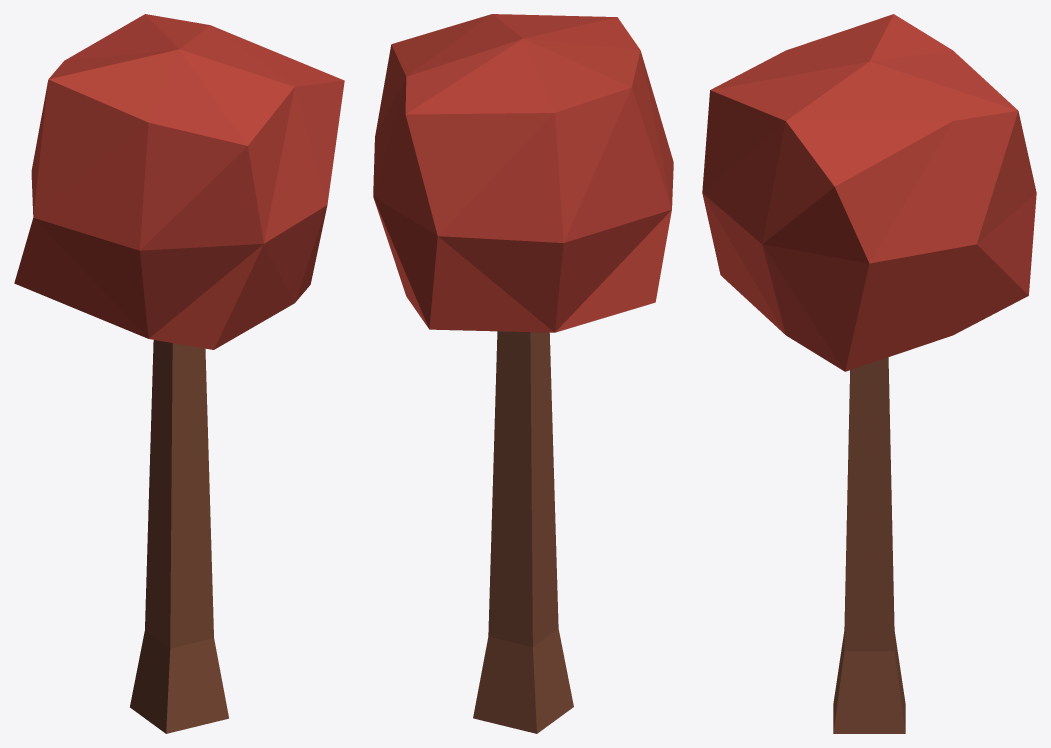
File: Tree_42_summer_red_vc.fbx
3 renders of one model, left to right at view 1: azimuth 30°, elevation 25°; view 2: azimuth 150°, elevation 25°; view 3: azimuth 270°, elevation 25°, orthographic. The views are drawn at different scales.
Parts seen in each view (by area): view 1: Tree_42_summer_red_vc; view 2: Tree_42_summer_red_vc; view 3: Tree_42_summer_red_vc.
Boxes of the visible parts, x1,y1,x2,y2 form: Tree_42_summer_red_vc: [14, 14, 344, 733]; Tree_42_summer_red_vc: [373, 14, 673, 733]; Tree_42_summer_red_vc: [702, 14, 1036, 733].
Size of the model in its own units: 98.78 by 212 by 97.79.
